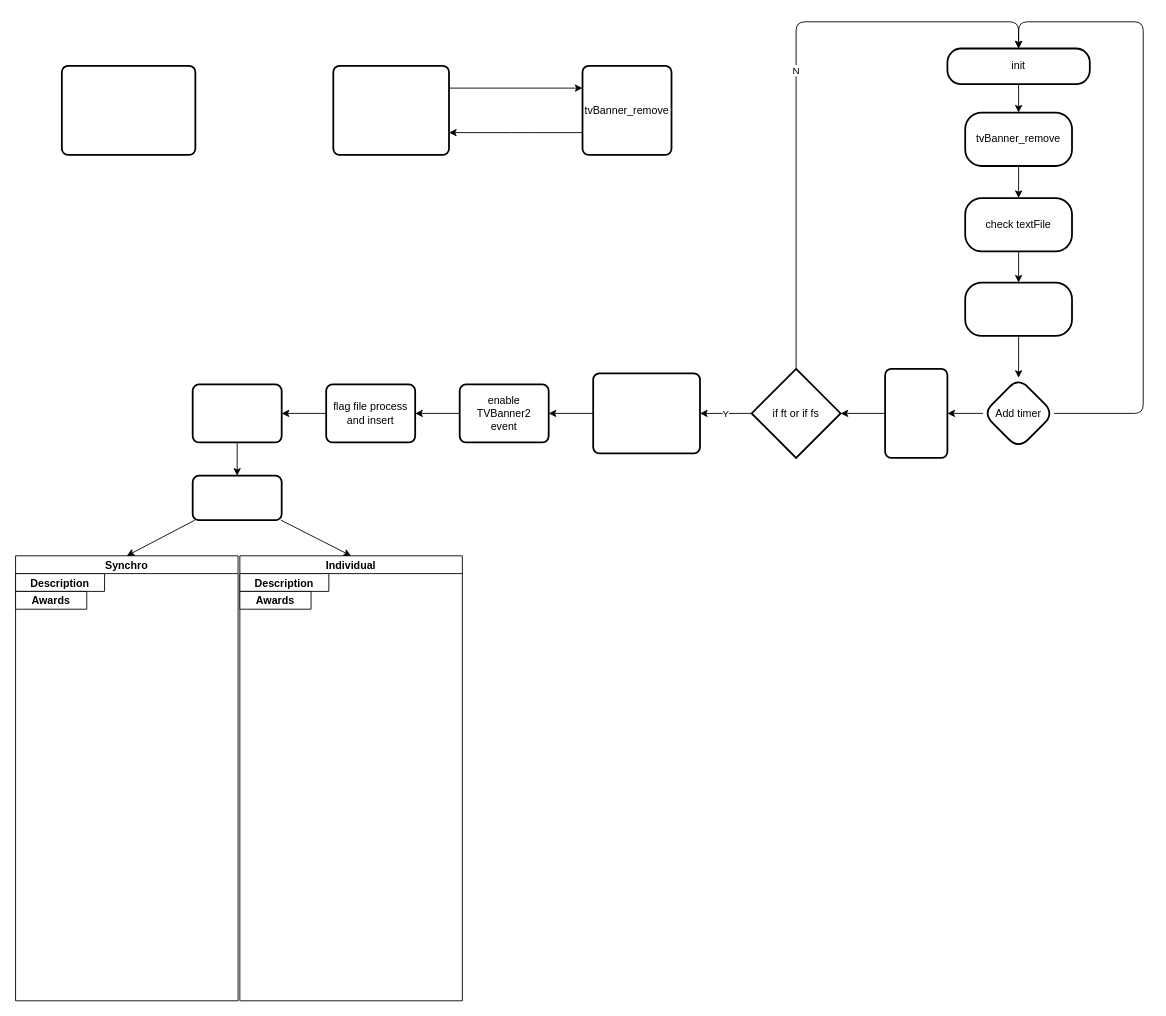
This 1166x1016 diagram has some shape labels left out. Each missing label, with the centre of its shape:
"checkFile contents" goes at [916,413].
"event data generation and insert" goes at [236,413].
"generate lineOne of the TVBanner" goes at [236,497].
"Hotkeys toggle_event_position remove_overlays show_overlays" goes at [128,110].
"if textFile found" goes at [1018,308].
"remove_TVBanner" goes at [390,110].
"update(k, v)" goes at [646,413].
